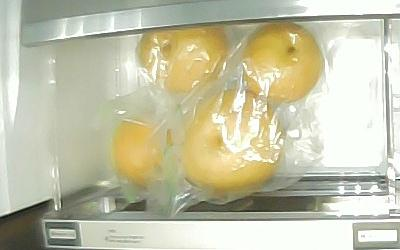pear_vinyl: (179, 87, 285, 193), (241, 22, 323, 102), (136, 25, 227, 94), (112, 111, 174, 186)
